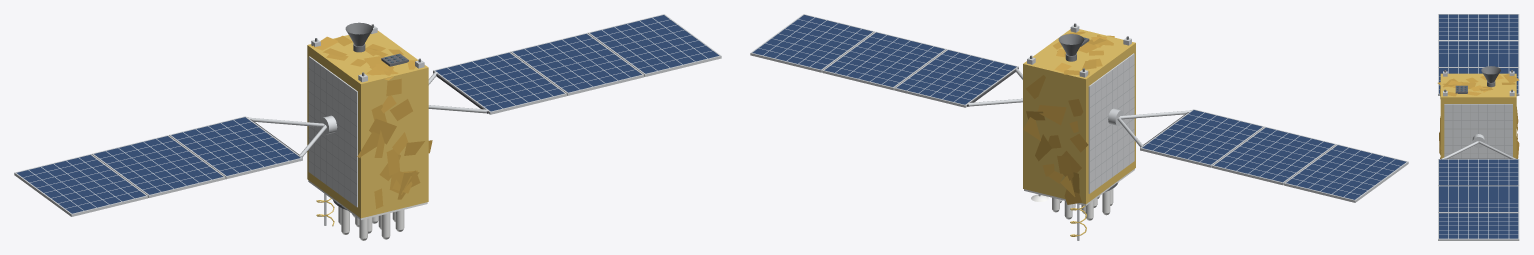
Rendered from satellite-gps.glb.
The picture shows the model from 3 angles, left to right: view 1: azimuth 30°, elevation 25°; view 2: azimuth 150°, elevation 25°; view 3: azimuth 270°, elevation 25°; orthographic projection. The views are drawn at different scales.
Parts seen in each view (by area): view 1: satellite-gps; view 2: satellite-gps; view 3: satellite-gps.
Boxes of the visible parts, box(x1,y1,x2,y2) form: satellite-gps: box(14, 14, 721, 240); satellite-gps: box(750, 14, 1408, 240); satellite-gps: box(1437, 14, 1519, 240).
Bounding box in the file's own units: 17.23 × 5.1 × 2.67.
